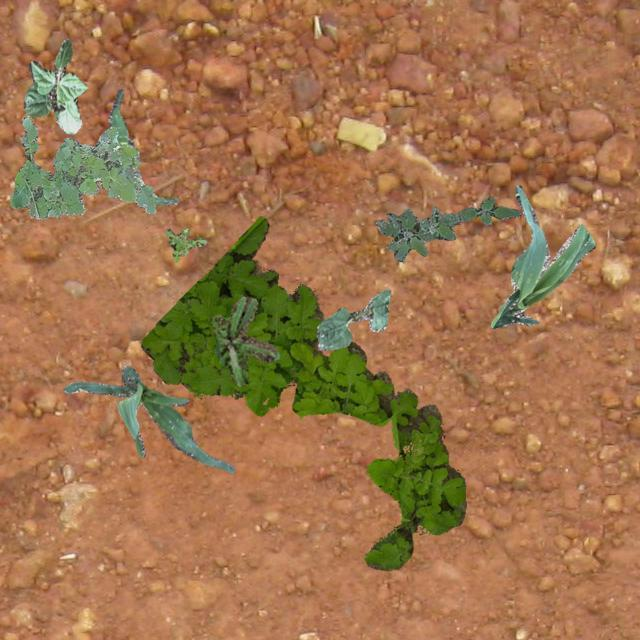crop: (62, 364, 234, 472), (490, 184, 594, 328), (108, 86, 178, 204), (22, 38, 88, 134), (316, 288, 390, 349)
weed: (140, 215, 466, 570), (9, 116, 154, 218), (210, 294, 278, 386), (374, 206, 460, 260), (456, 196, 520, 224), (163, 228, 206, 260)
